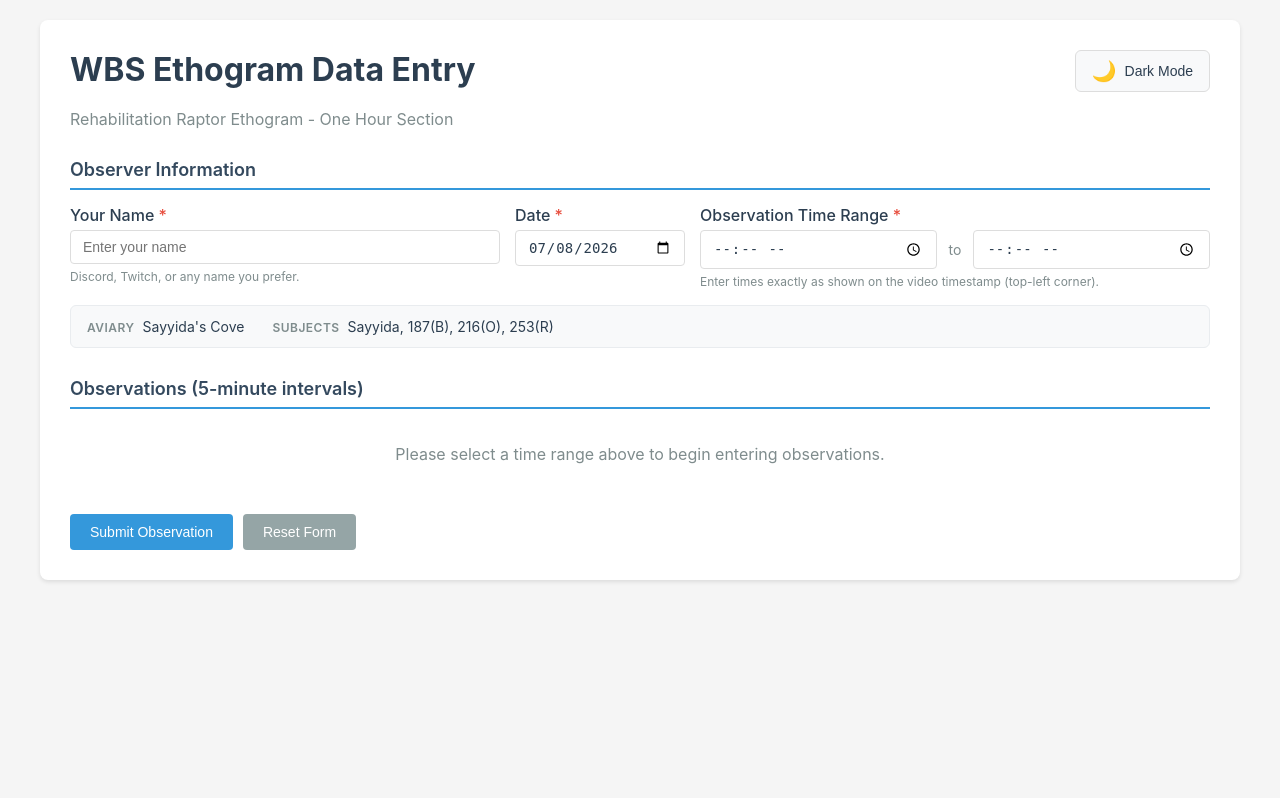
Test: Copy to Next with Validation Integration › prevents copy when behavior is not selected
This screenshot has width=1280, height=798.
Type "10:00" into the 1st time field. click: [818, 249]
box: [700,230,937,269]
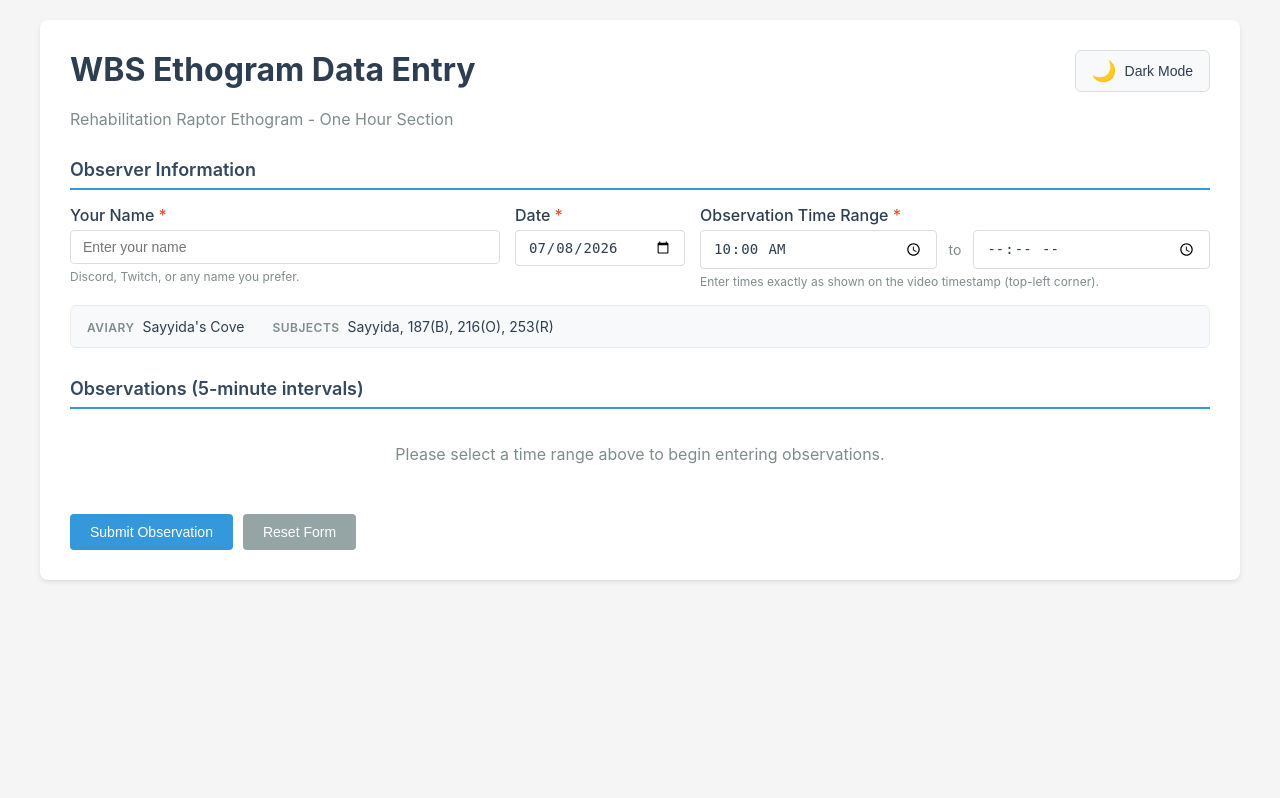
Type "10:10" into the 2nd time field. click: [1092, 249]
box: [973,230,1210,269]
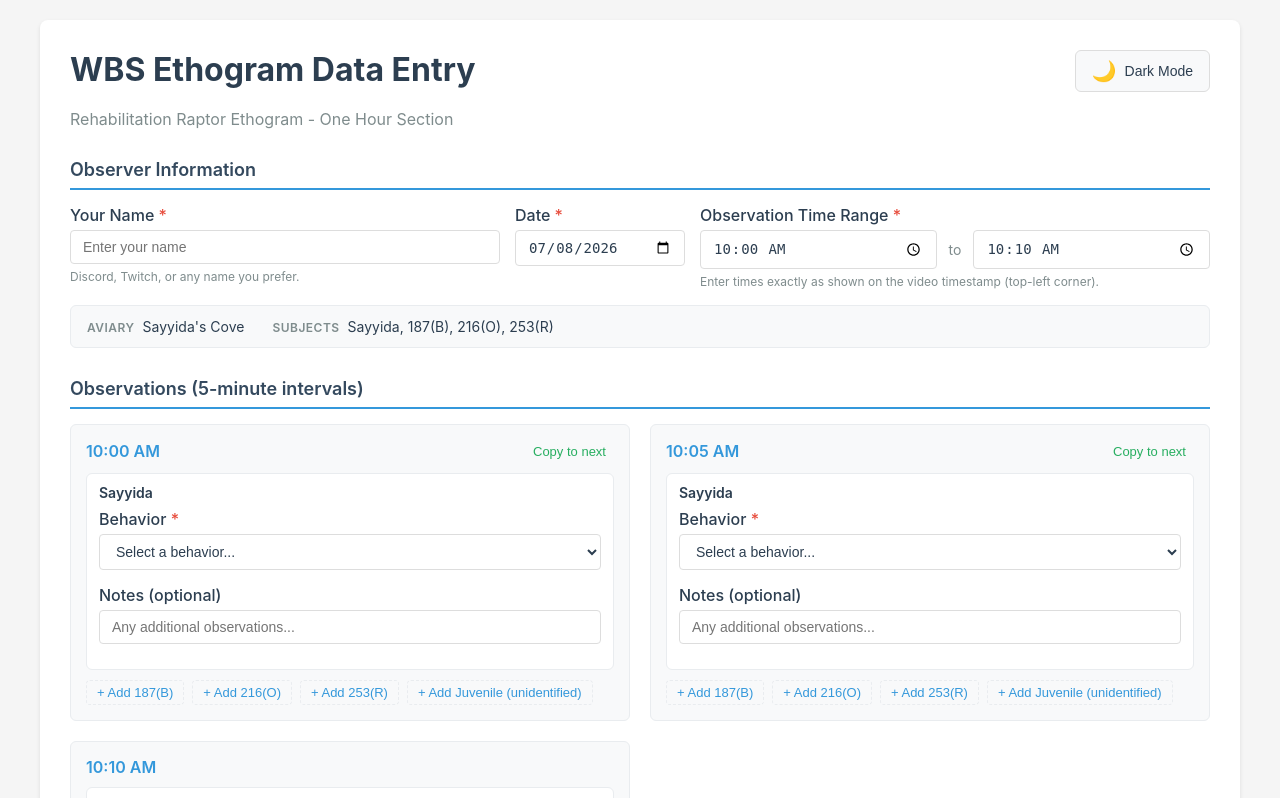
Expected: the text "10:00 AM" is shown, [86,441,160,461]
Click the button "Copy to next" in the row of "10:00 AM". click: [570, 451]
box: [525,440,614,463]
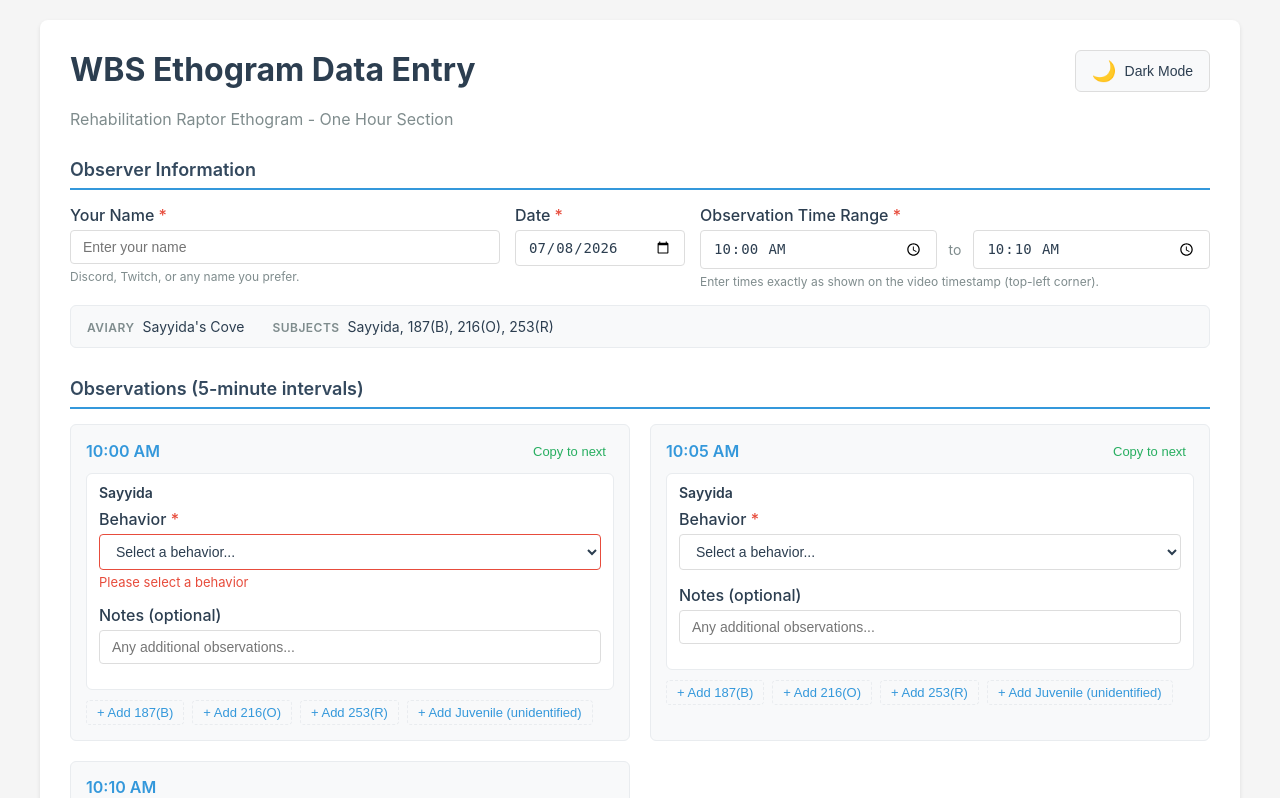
Expected: the dropdown below "10:05 AM" shows "Select a behavior...", [679,534,1181,570]
Expected: the text "Please select a behavior" is shown, [99,574,248,590]
